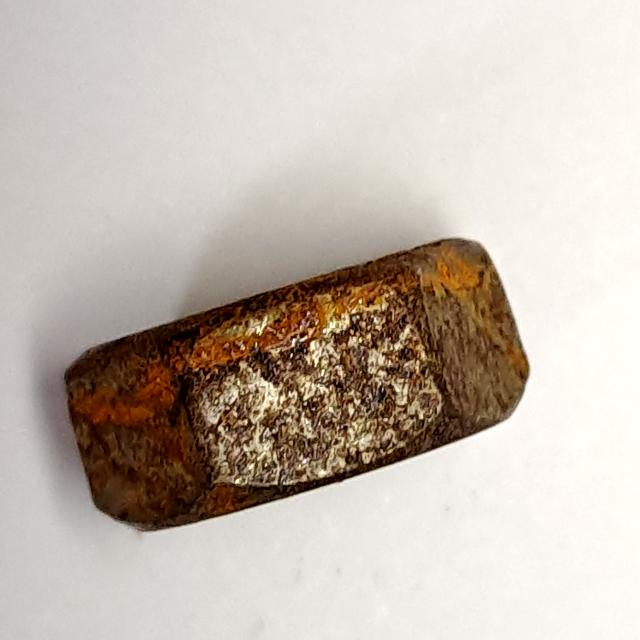Side_Rust: (55, 226, 541, 544)
